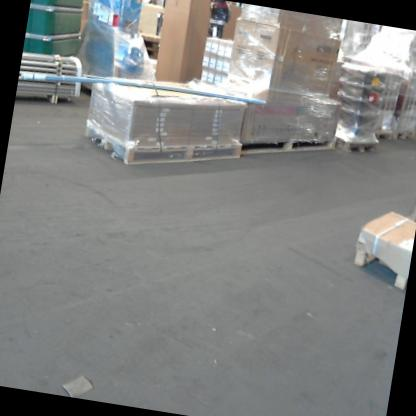pallet: (332, 132, 379, 158), (372, 126, 395, 145), (392, 127, 416, 142)
